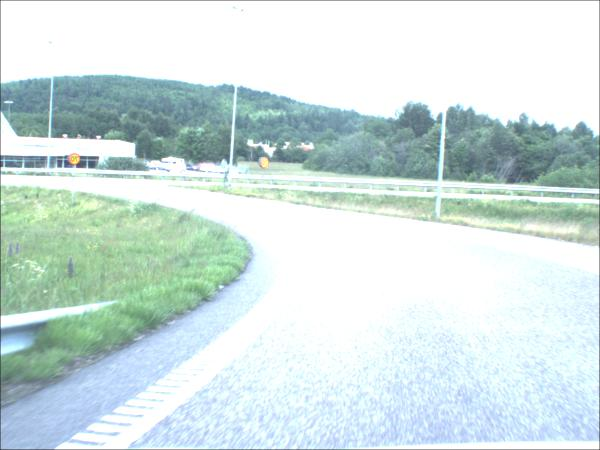70_SIGN: (68, 154, 80, 167), (259, 158, 269, 170)
